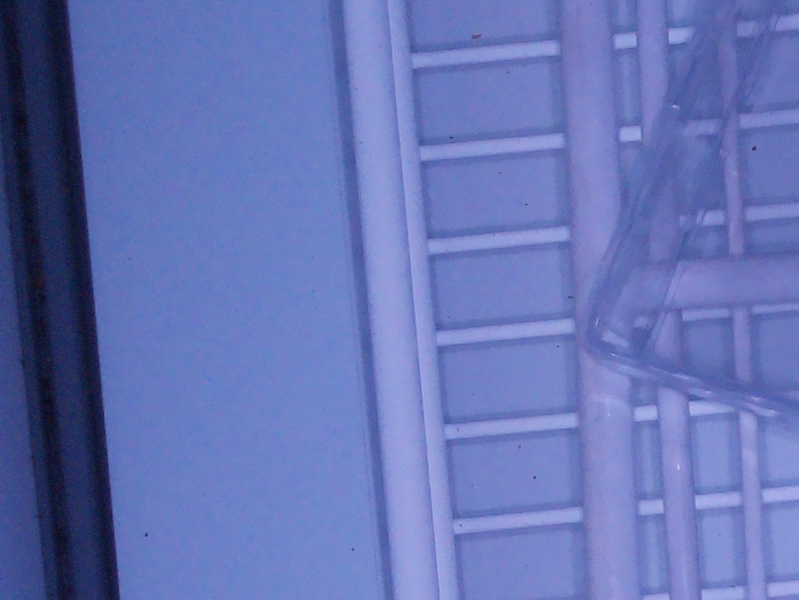plate: (579, 1, 799, 424)
